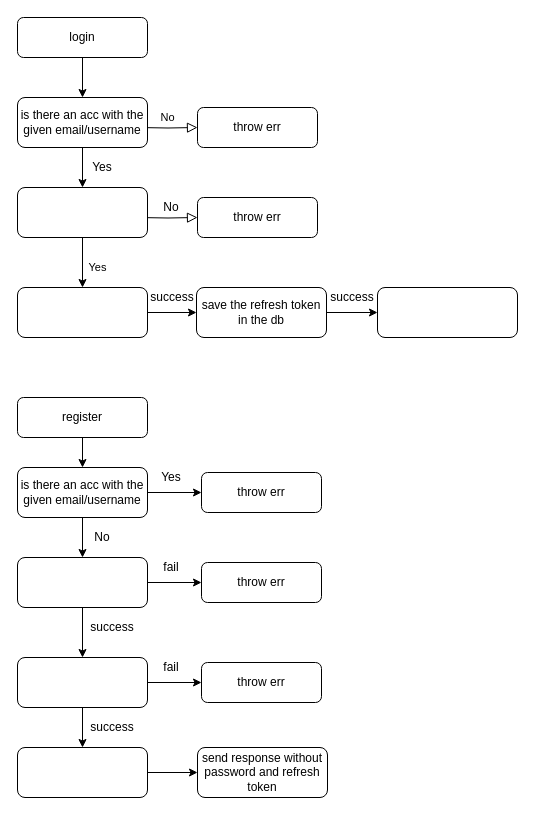
Some shapes in this 535 by 815 pixel diagram are drawn without their labels. The shapes that lost their labels are listed below. From the top down, each one's centre as x and y in pixels, then its label:
[82,212]: is the given password correct
[82,312]: generate access and refresh token for the user
[447,312]: pass the tokens and the user data in cookies
[82,582]: retrieve the avatar and coverImage local path
[82,682]: upload on cloudinary
[82,772]: create the user in db
